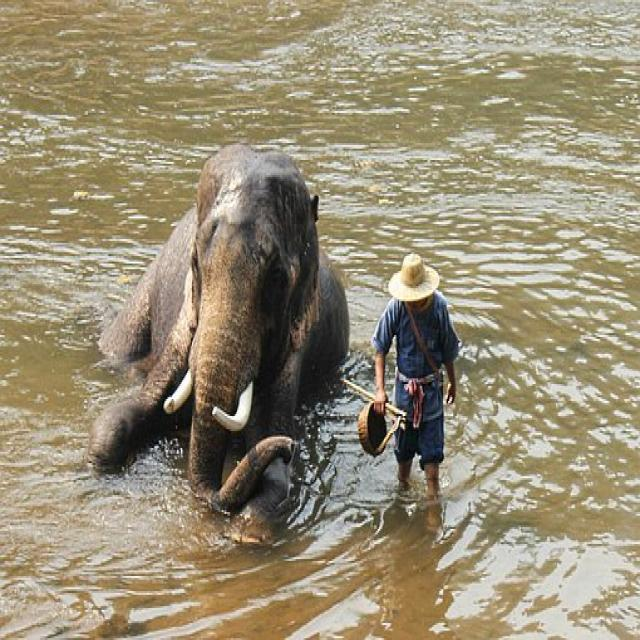Elephant: (81, 123, 360, 544)
